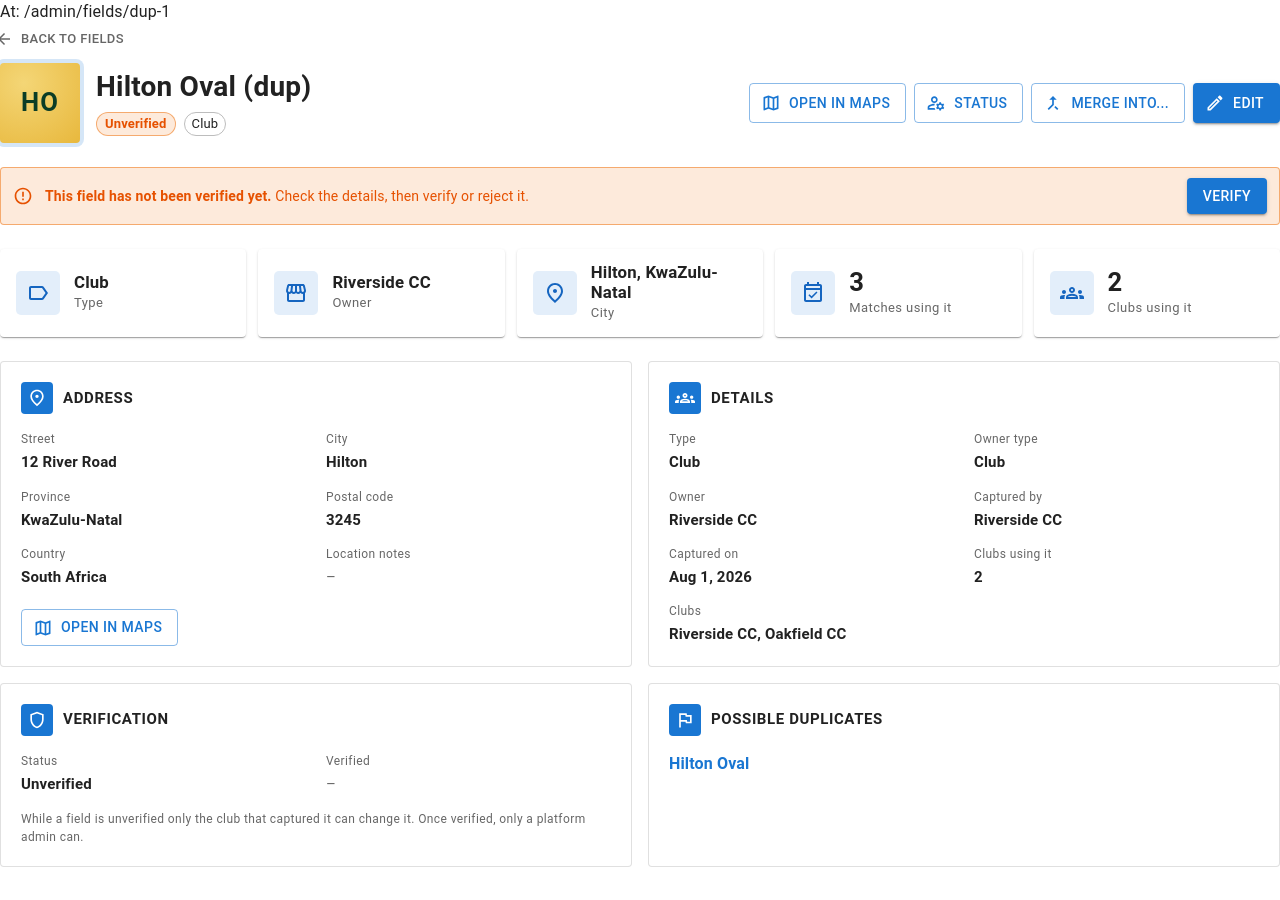
AdminFieldDetailPage › Merge into... › searches verified and unverified fields except itself, and shows both fields side by side once one is picked
Expected: the heading "Hilton Oval (dup)" is shown, [96,70,311,104]
Click the button "Merge into..." at [1108, 103], box [1031,83,1185,123]
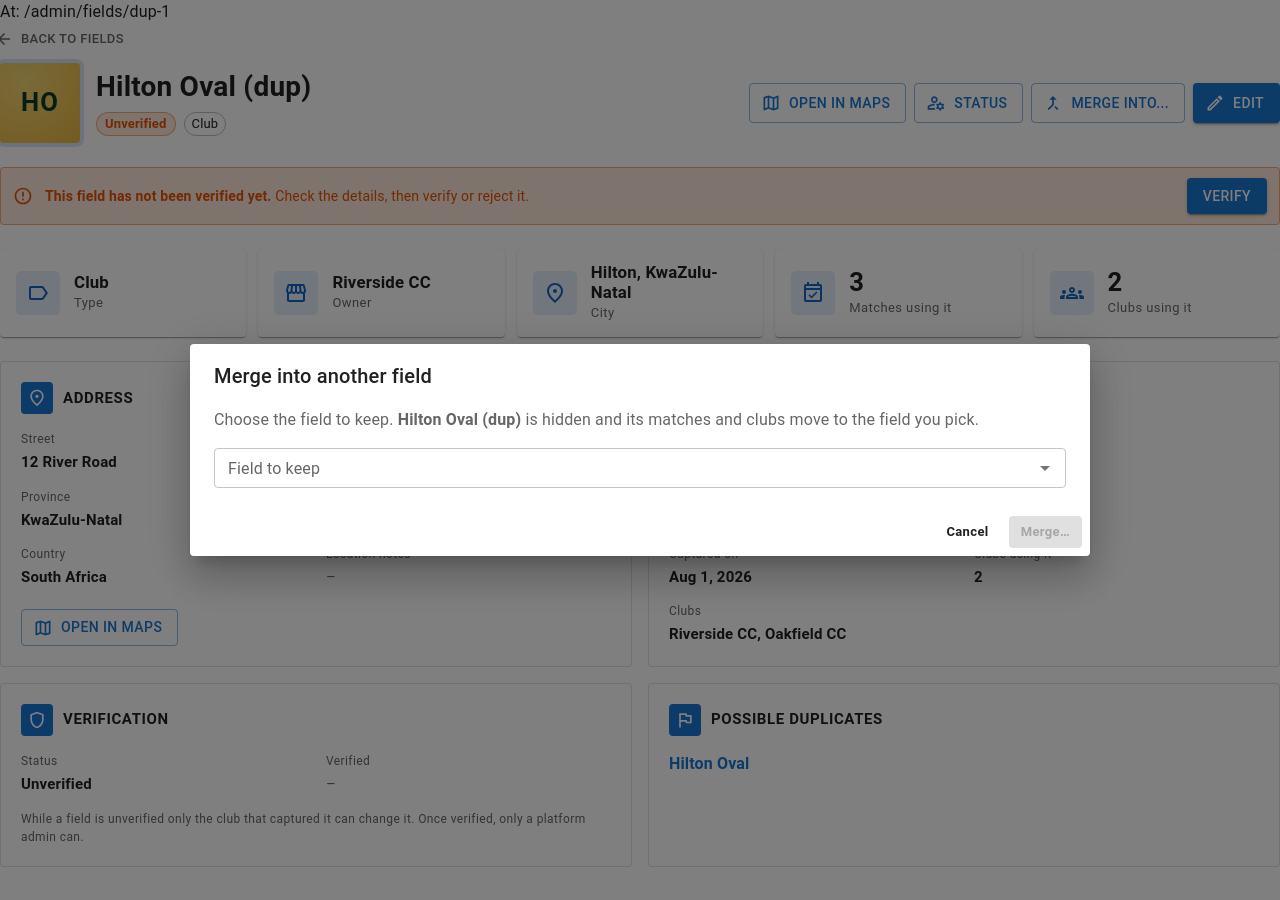
Click the dropdown labelled "Field to keep" at [624, 468], box [220,454,1027,482]
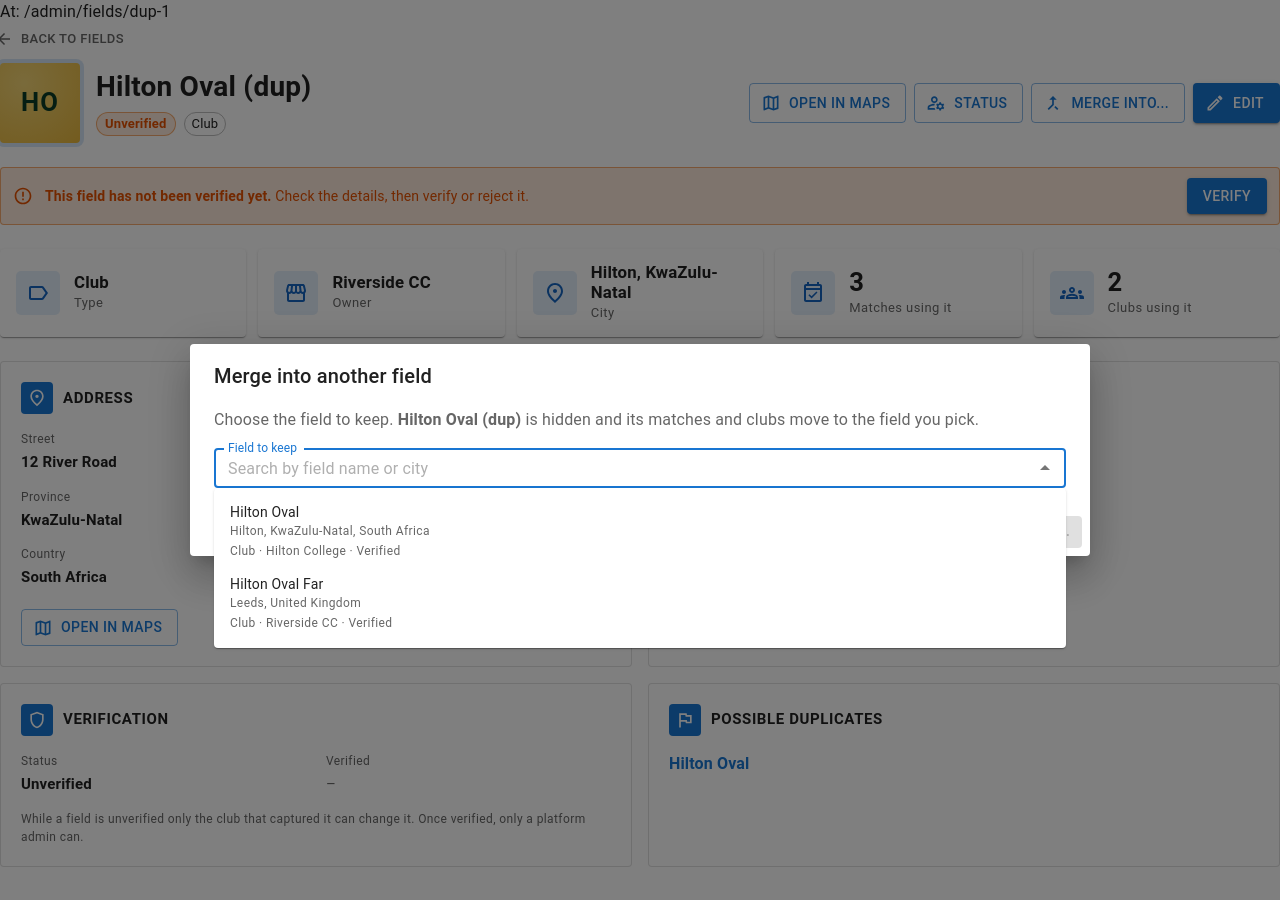
Click the 1st option at [330, 531], box [230,504,430,558]
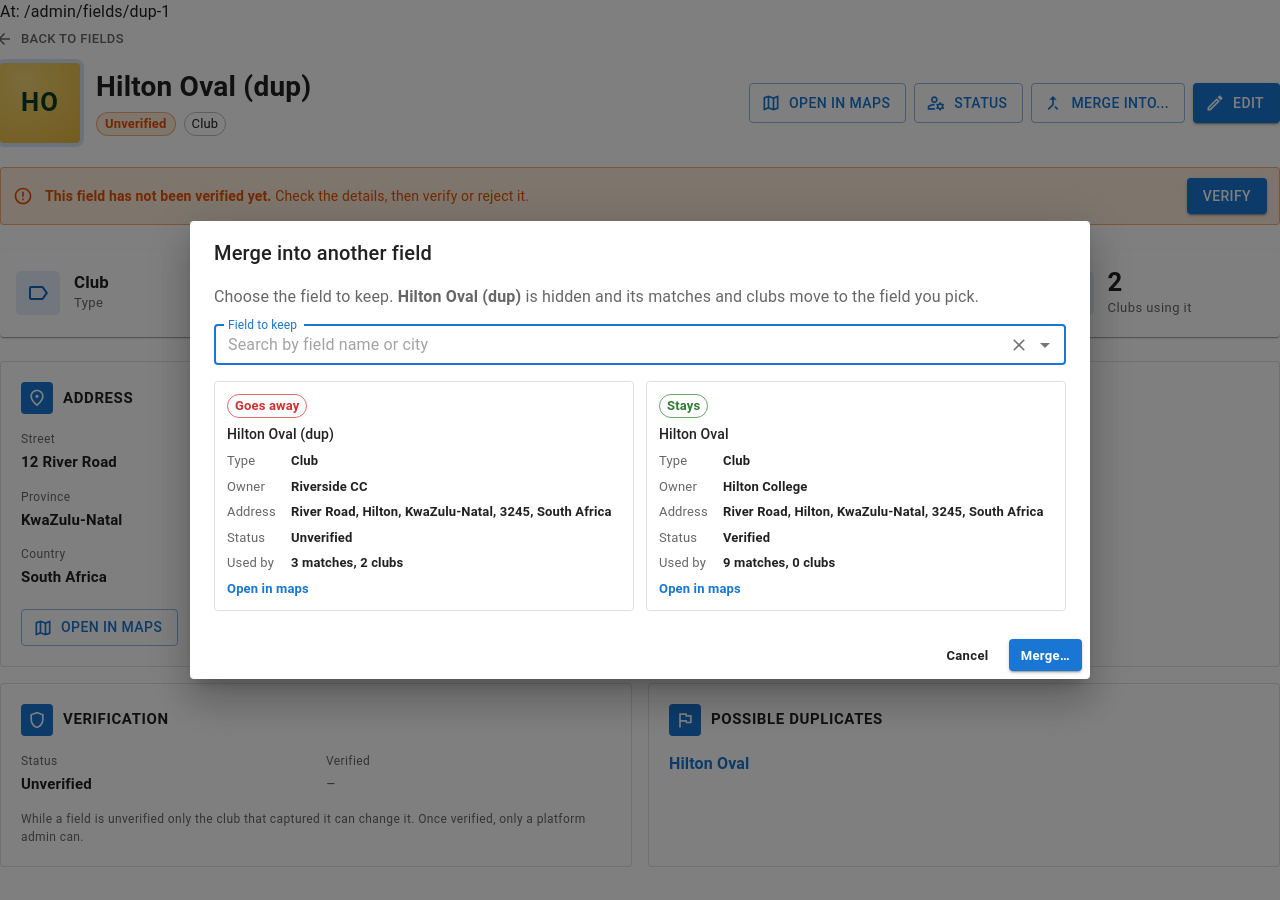
Result: the element with test id "merge-facts-goes" shows "Goes away" at [235,398,300,413]
Result: the element with test id "merge-facts-goes" shows "Hilton Oval (dup)" at [227,426,334,442]
Result: the element with test id "merge-facts-goes" shows "Unverified" at [291,530,352,545]
